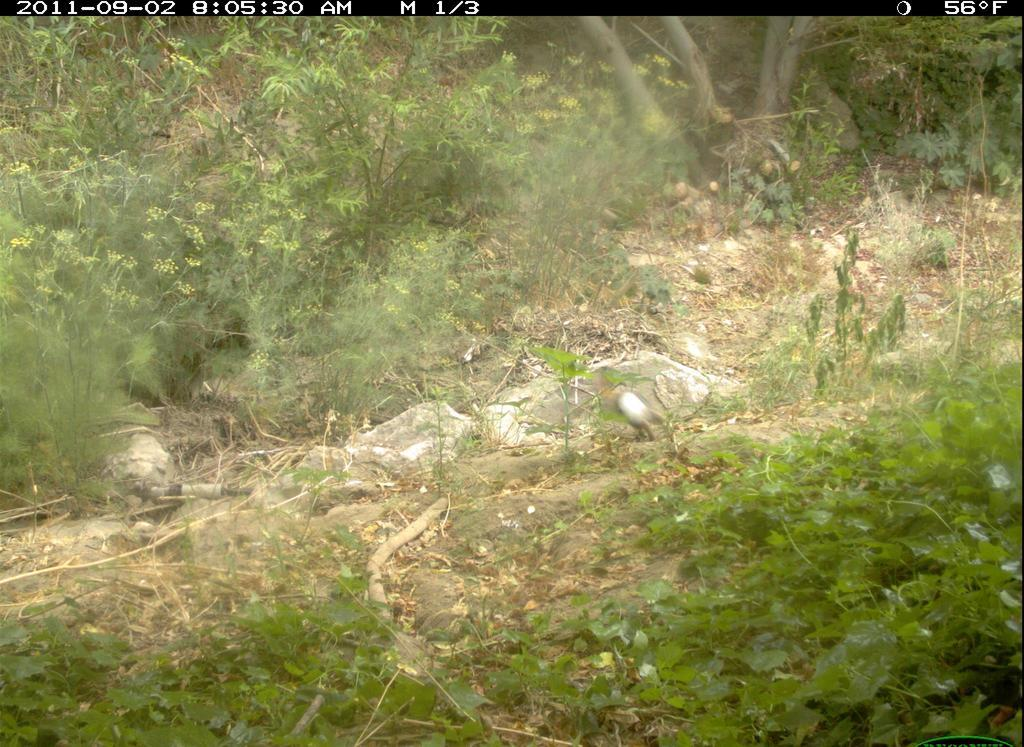rabbit: (593, 370, 677, 455)
